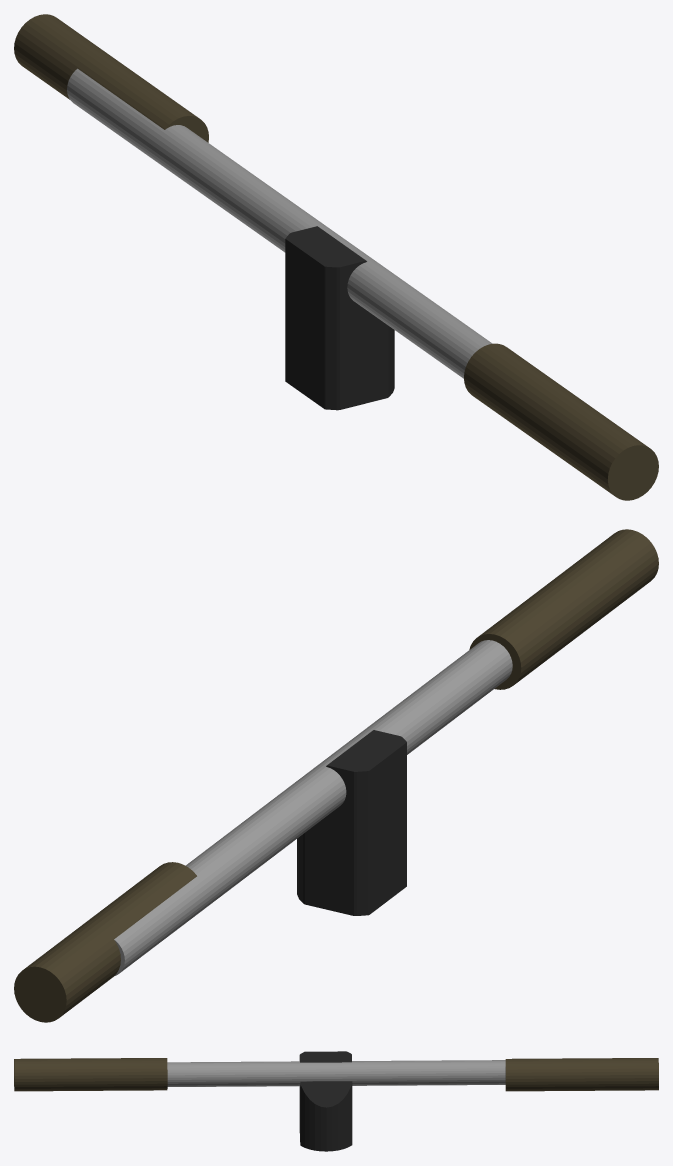
File: stuur.dae
The picture shows the model from 3 angles, top to bottom: view 1: azimuth 30°, elevation 25°; view 2: azimuth 150°, elevation 25°; view 3: azimuth 270°, elevation 25°; orthographic projection. The views are drawn at different scales.
Visible parts, largest first — view 1: Cylinder_004, Cube_001, Cylinder_008, Cylinder_010; view 2: Cylinder_004, Cube_001, Cylinder_008, Cylinder_010; view 3: Cylinder_004, Cylinder_010, Cylinder_008, Cube_001.
Boxes of the visible parts, x1,y1,x2,y2 form: Cylinder_004: (67,68,492,378); Cube_001: (285,226,394,410); Cylinder_008: (464,343,658,500); Cylinder_010: (14,14,208,142); Cylinder_004: (114,640,512,975); Cube_001: (297,730,406,915); Cylinder_008: (469,529,658,689); Cylinder_010: (14,862,196,1022); Cylinder_004: (167,1060,505,1086); Cylinder_010: (505,1058,658,1091); Cylinder_008: (14,1058,167,1091); Cube_001: (299,1051,352,1151).
Size of the model in its own units: 0.1279 by 1.57 by 0.2174.
